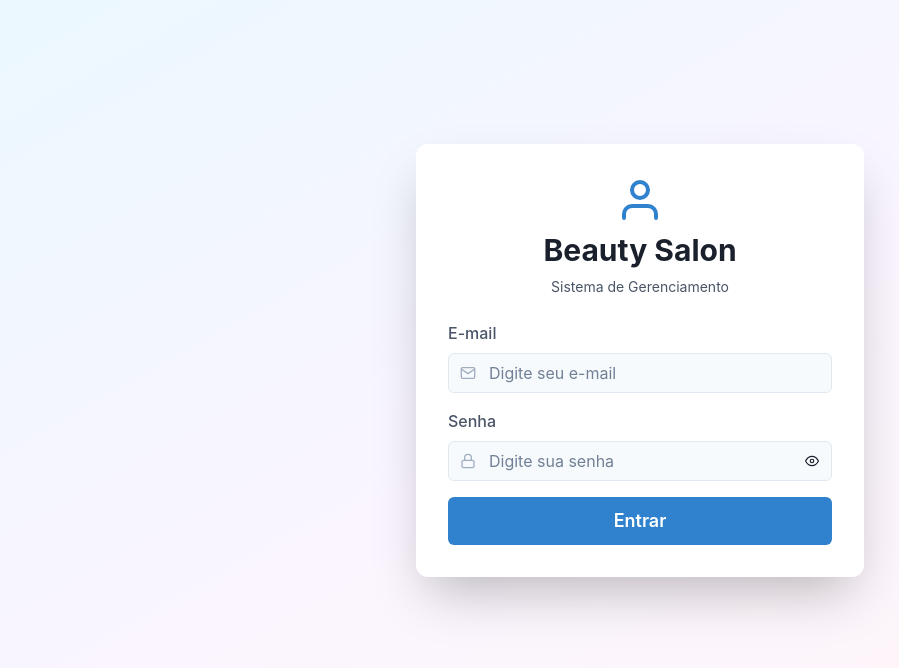
Scenario: 🔐 Login - Autenticação › 🔄 Funcionalidade de Login › T009: Deve mostrar erro para credenciais inválidas
Step 1. Type "admin@beautysalon.com" into the field with placeholder "Digite seu e-mail" → (640,372), box x1=448 y1=352 x2=832 y2=392
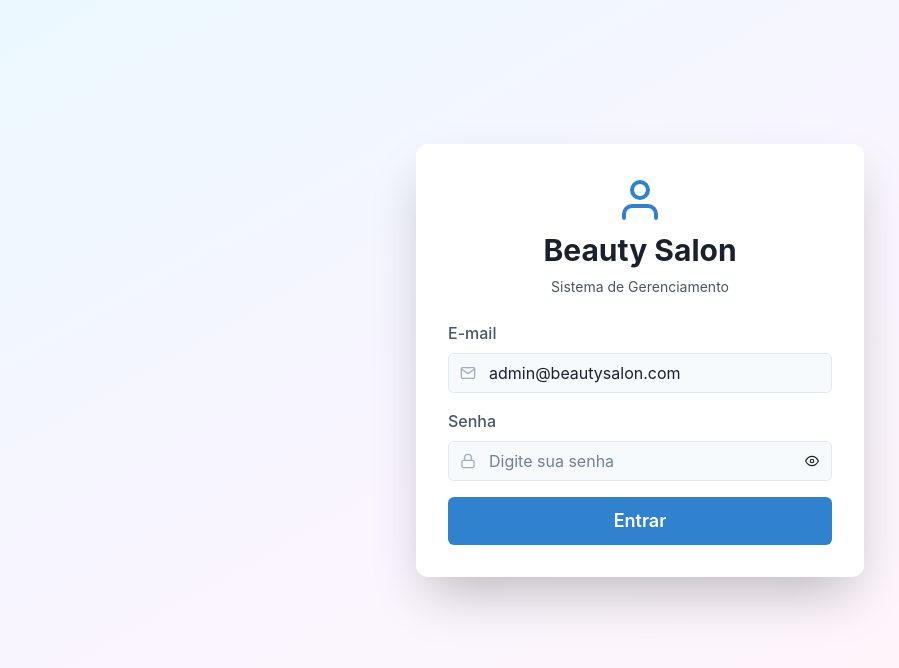
Step 2. Type "senhaerrada" into the password field with placeholder "Digite sua senha" → (640,460), box x1=448 y1=440 x2=832 y2=480
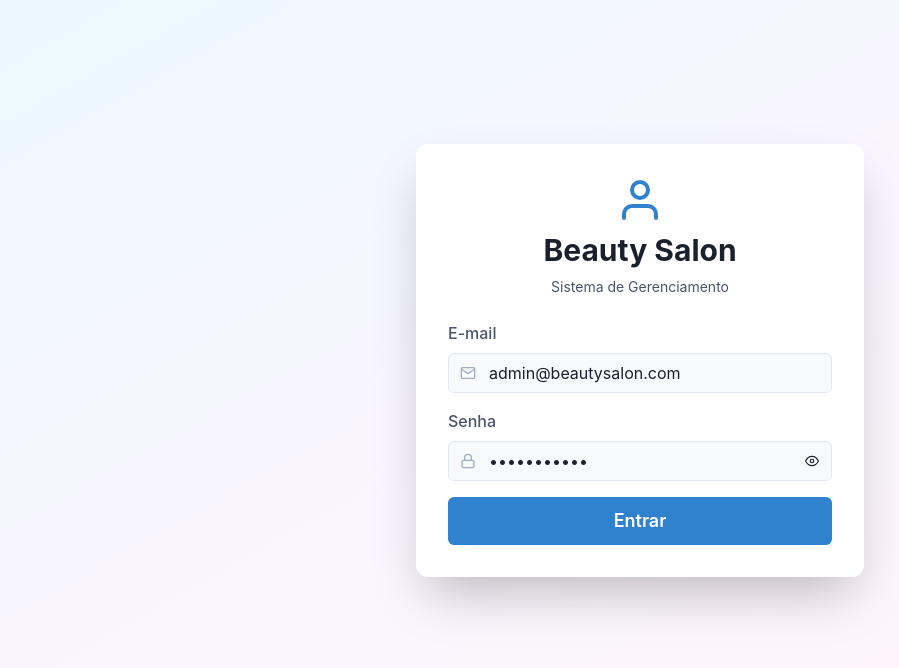
Step 3. Click the button "Entrar" → (640,520), box x1=448 y1=496 x2=832 y2=544
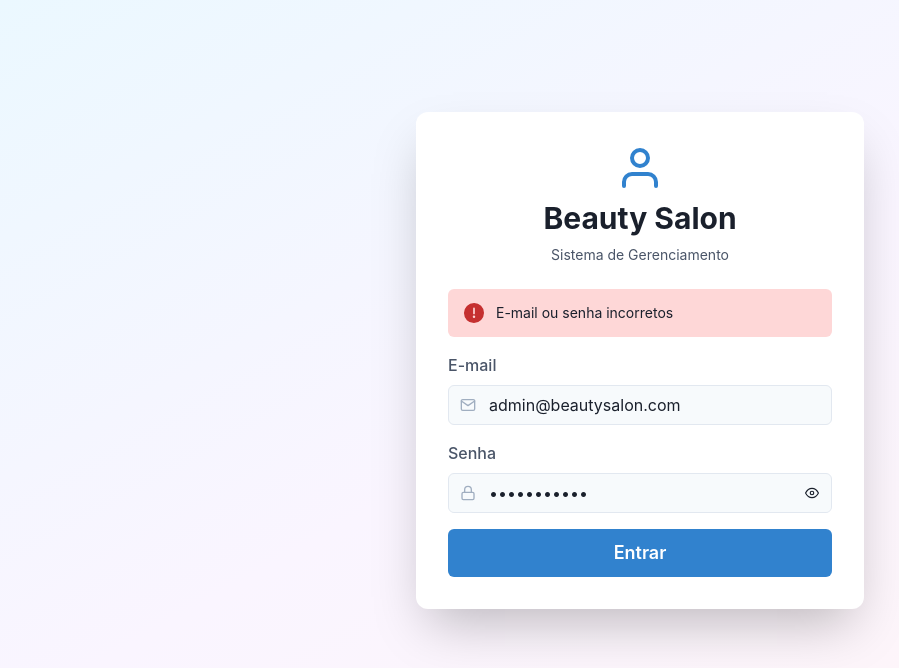
Result: the text "E-mail ou senha incorretos" is shown at x1=496 y1=302 x2=673 y2=323
